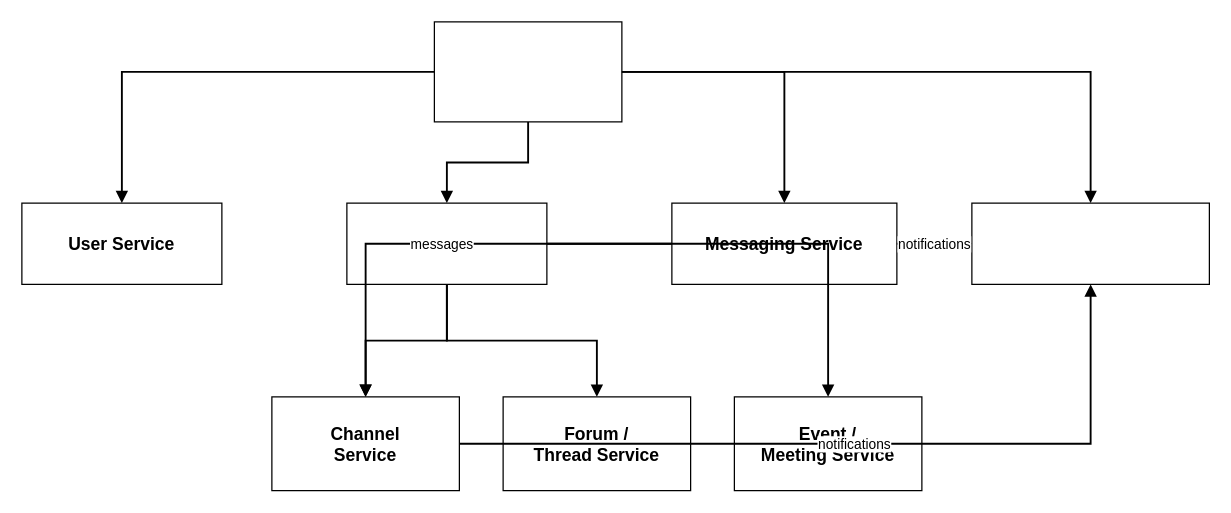
Some shapes in this 1231 by 513 pixel diagram are drawn without their labels. Here are the shapes that lost their labels. From the top down, the box of each, then its label:
(433, 21, 622, 122): Client Application
(346, 202, 547, 284): Server Service
(971, 202, 1209, 284): Notification Service
